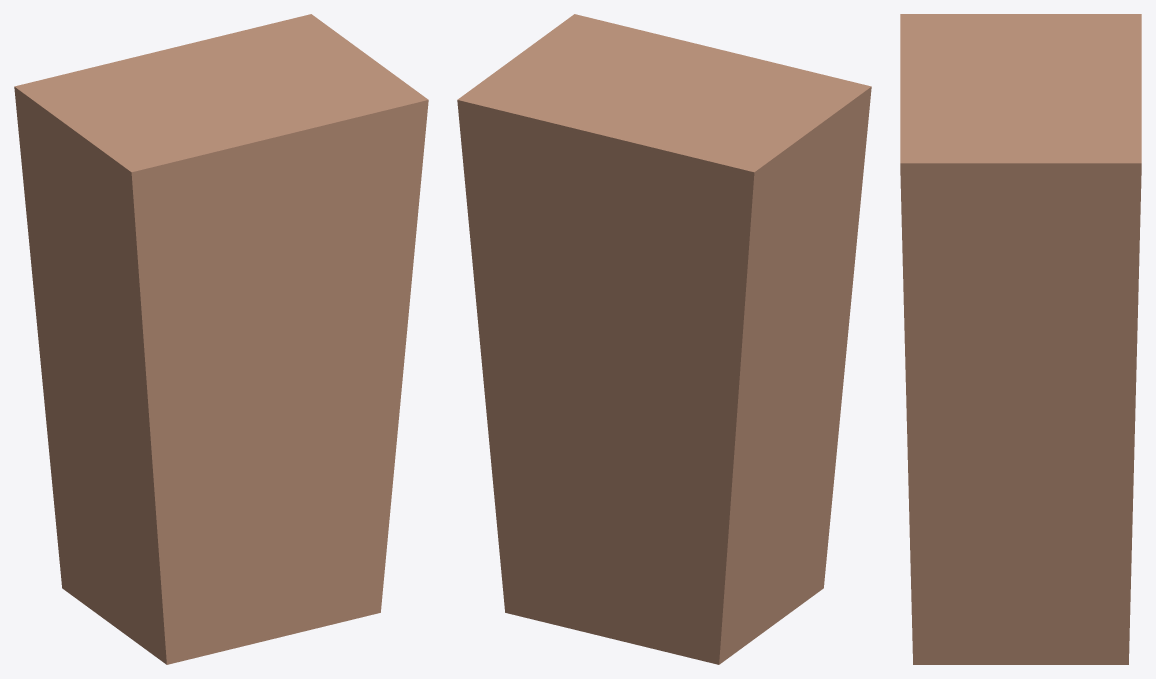
File: wk_buck_standard_hand_v01.glb
3 views of the same model, side by side, from view 1: azimuth 30°, elevation 25°; view 2: azimuth 150°, elevation 25°; view 3: azimuth 270°, elevation 25° (orthographic). The views are drawn at different scales.
Parts seen in each view (by area): view 1: GEO_Hand.001; view 2: GEO_Hand.001; view 3: GEO_Hand.001.
Part boxes in pixels (x1,y1,x2,y2): GEO_Hand.001: (14,14,428,664); GEO_Hand.001: (457,14,871,664); GEO_Hand.001: (900,14,1141,664).
Size of the model in its own units: 0.095 by 0.155 by 0.065.
